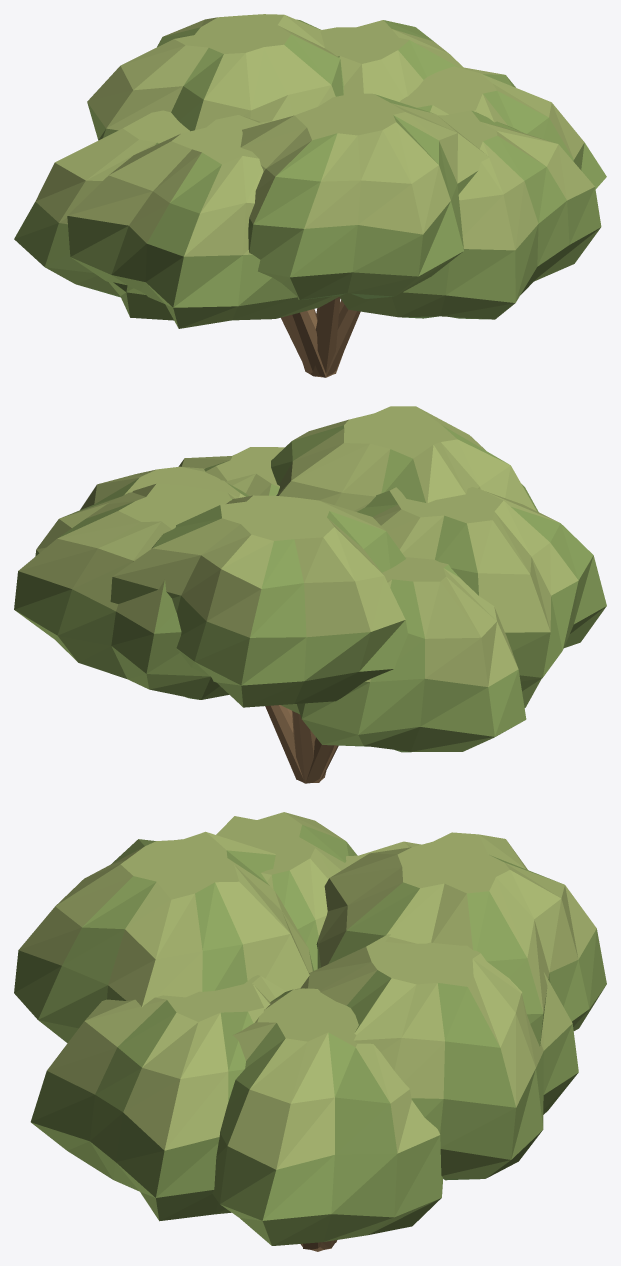
File: holm_arrival_hazel_v1.glb
3 views of the same model, one above another, from view 1: azimuth 30°, elevation 25°; view 2: azimuth 150°, elevation 25°; view 3: azimuth 270°, elevation 25° (orthographic). The views are drawn at different scales.
Visible parts, largest first — view 1: HazelLeaves, HazelStems; view 2: HazelLeaves, HazelStems; view 3: HazelLeaves.
Boxes of the visible parts, x1,y1,x2,y2 form: HazelLeaves: (14,14,606,328); HazelStems: (281,297,360,377); HazelLeaves: (14,406,606,752); HazelStems: (265,705,338,783); HazelLeaves: (14,812,606,1245).
Size of the model in its own units: 2.43 by 1.41 by 2.06.
